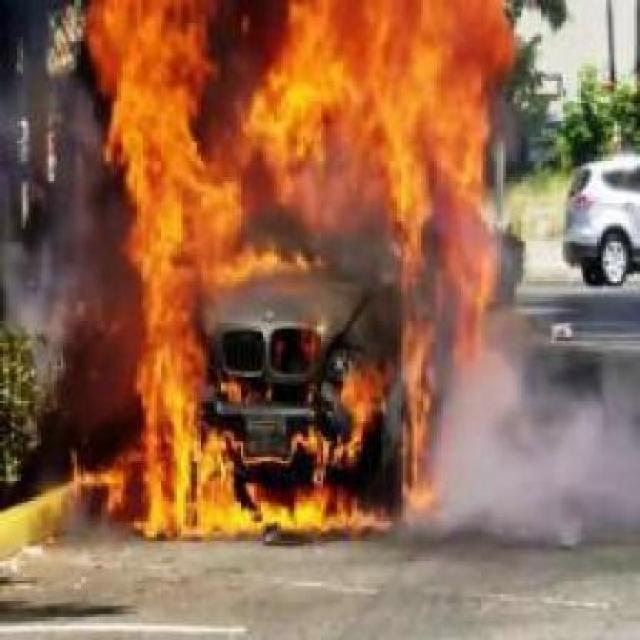Fire: (78, 1, 518, 262), (125, 264, 216, 536), (211, 440, 353, 532), (402, 264, 447, 518), (448, 268, 500, 354)
Smoke: (449, 352, 640, 546)
